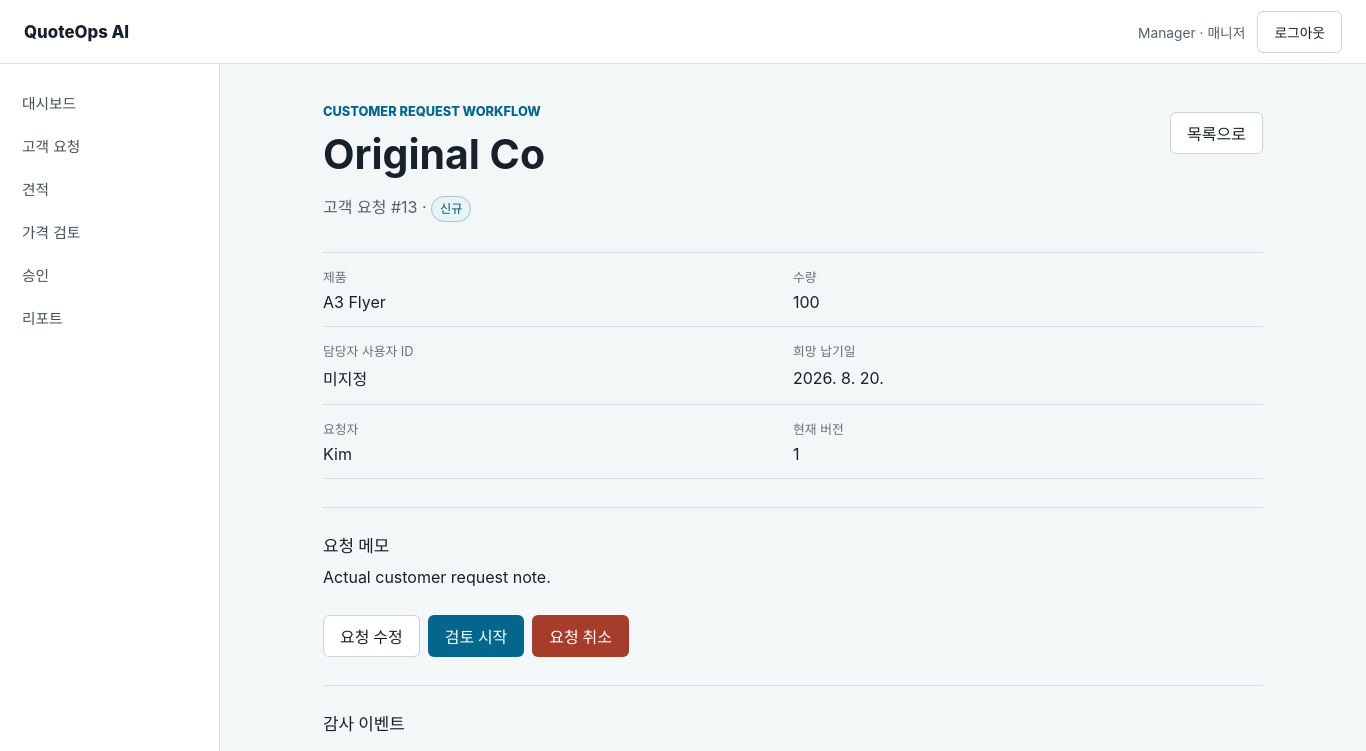
Test: V2-03B customer-request workspace › sends the current version when a manager saves an edit
Check: the heading "Original Co" is shown, box [323,131,545,178]
Click the button "요청 수정" at {"x": 371, "y": 636}, box [323,615,420,657]
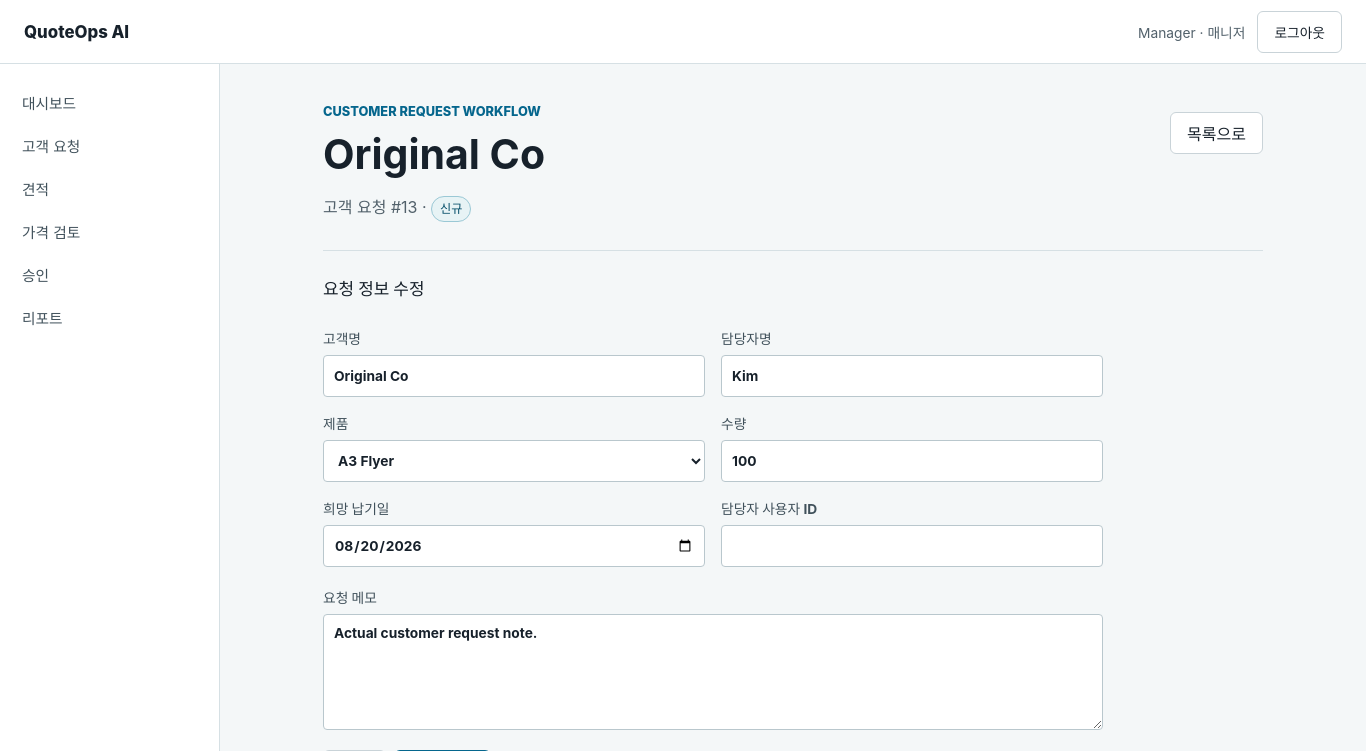
Replace the text in the field labelled "고객명" with "Updated Co" at {"x": 514, "y": 376}, box [323,355,705,397]
(page scrolled)
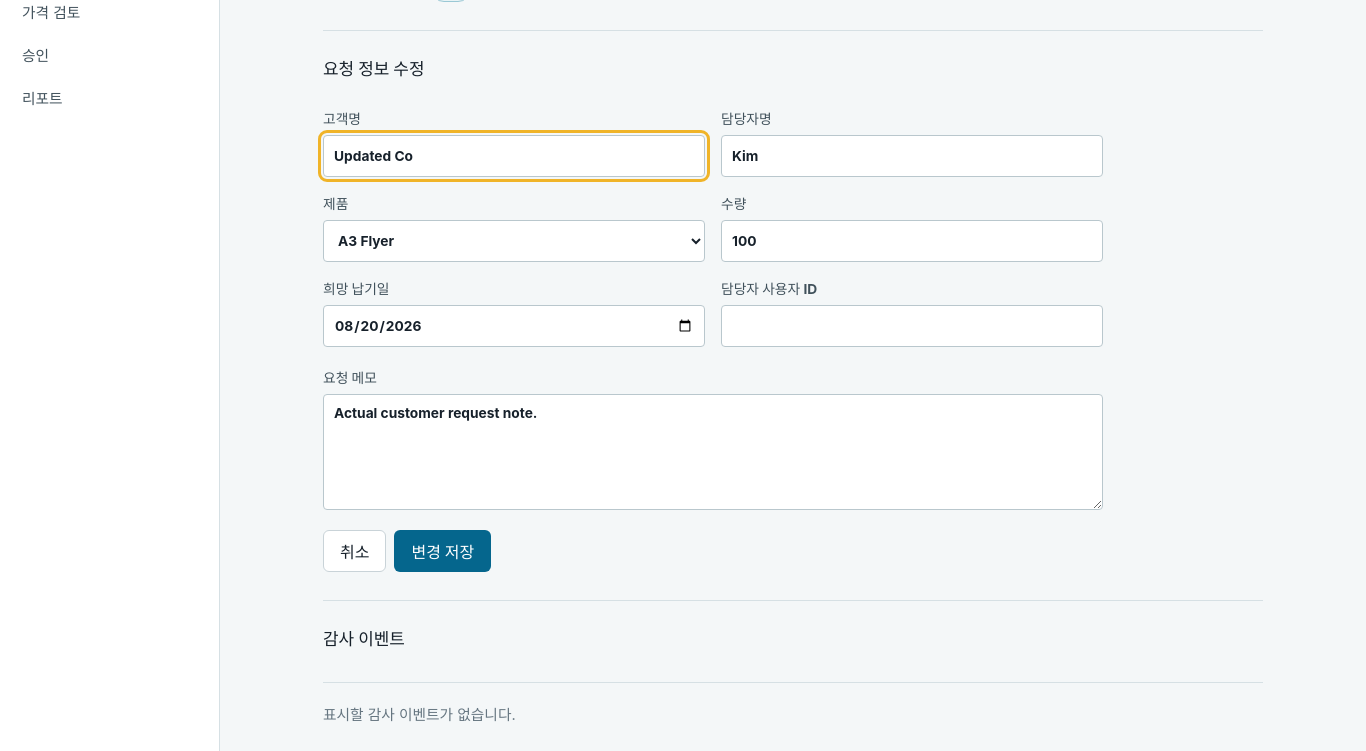
Click the button "변경 저장" at {"x": 443, "y": 551}, box [394,530,491,572]
(page scrolled)
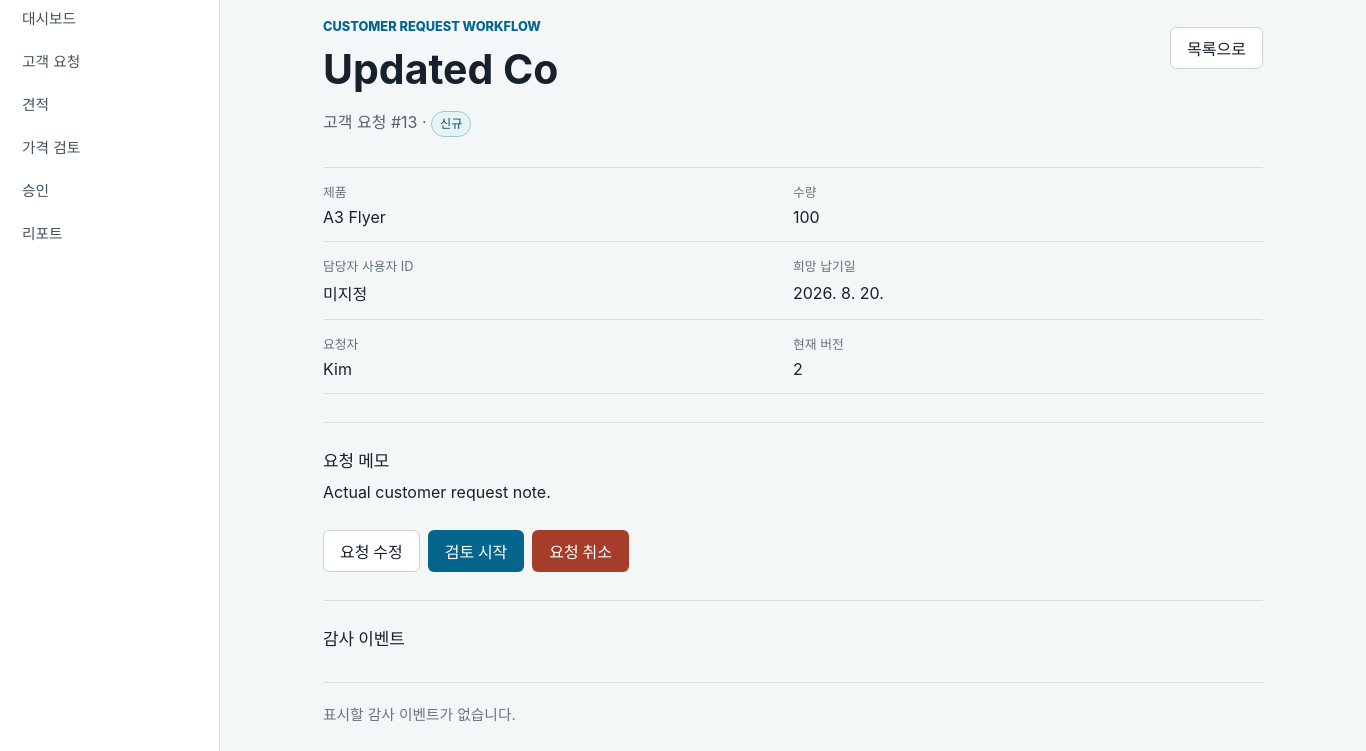
Check: the heading "Updated Co" is shown, box [323,46,558,93]
